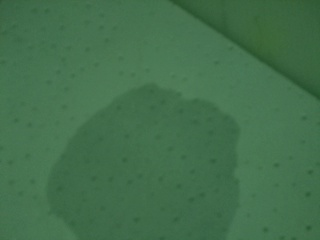Water_detected: (68, 103, 203, 229)
